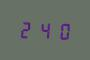four: (36, 19, 52, 40)
two: (18, 19, 34, 39)
zero: (53, 20, 69, 40)
